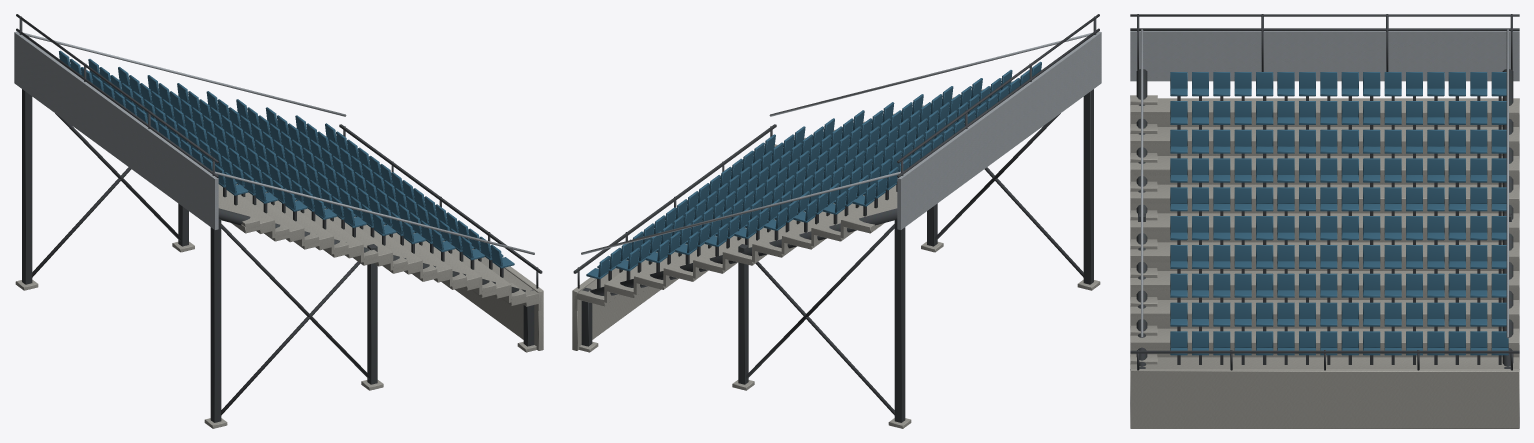
The model's file is grandstand_high.glb.
3 renders of one model, left to right at view 1: azimuth 30°, elevation 25°; view 2: azimuth 150°, elevation 25°; view 3: azimuth 270°, elevation 25°, orthographic. The views are drawn at different scales.
Parts seen in each view (by area): view 1: seat, dark-steel, galvanised, concrete; view 2: seat, dark-steel, galvanised, concrete; view 3: seat, concrete, galvanised, dark-steel.
Boxes of the visible parts, box(x1,y1,x2,y2) form: seat: box(59, 50, 514, 268); dark-steel: box(16, 14, 542, 422); galvanised: box(14, 31, 534, 254); concrete: box(15, 120, 543, 428); seat: box(586, 61, 1041, 279); dark-steel: box(573, 14, 1099, 422); galvanised: box(581, 31, 1101, 254); concrete: box(572, 81, 1100, 428); seat: box(1170, 72, 1508, 355); concrete: box(1130, 95, 1519, 428); galvanised: box(1130, 29, 1519, 337); dark-steel: box(1130, 14, 1519, 370).
Size of the model in its own units: 9.47 by 7.38 by 10.
Materials: 4 (3 with a texture image).
